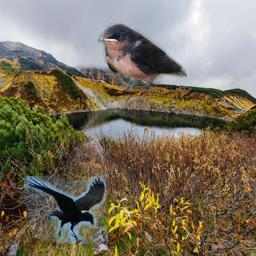Crow: (24, 176, 106, 244)
Swallow: (97, 23, 187, 92)
